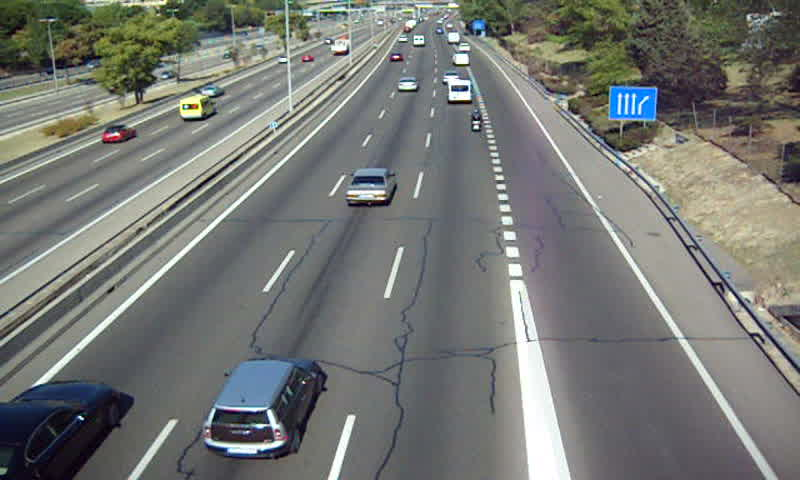car: (206, 358, 321, 459), (1, 381, 117, 480), (344, 167, 395, 206), (396, 77, 418, 93), (442, 70, 459, 84)
motorcycle: (471, 108, 483, 132)
van: (448, 78, 472, 103), (452, 54, 470, 66)
